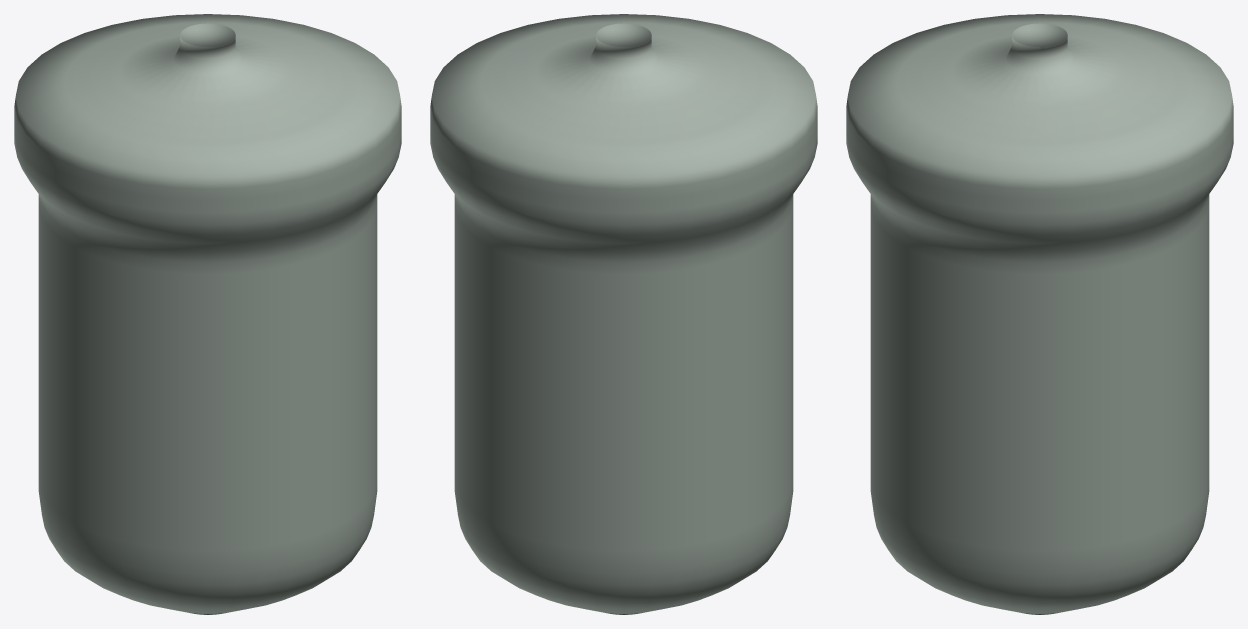
File: asset.obj
3 views of the same model, side by side, from view 1: azimuth 30°, elevation 25°; view 2: azimuth 150°, elevation 25°; view 3: azimuth 270°, elevation 25° (orthographic).
Visible parts, largest first — view 1: syncom_bottle; view 2: syncom_bottle; view 3: syncom_bottle.
Boxes of the visible parts, x1,y1,x2,y2 form: syncom_bottle: (14,14,401,614); syncom_bottle: (430,14,817,614); syncom_bottle: (846,14,1233,614).
Bounding box in the file's own units: 0.1744 × 0.28 × 0.1744.
1 material, 1 textured.
